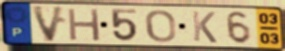5: (108, 8, 139, 43)
6: (225, 10, 254, 45)
H: (66, 7, 103, 42)
K: (191, 10, 219, 45)
O: (144, 9, 178, 44)
V: (29, 4, 68, 44)
